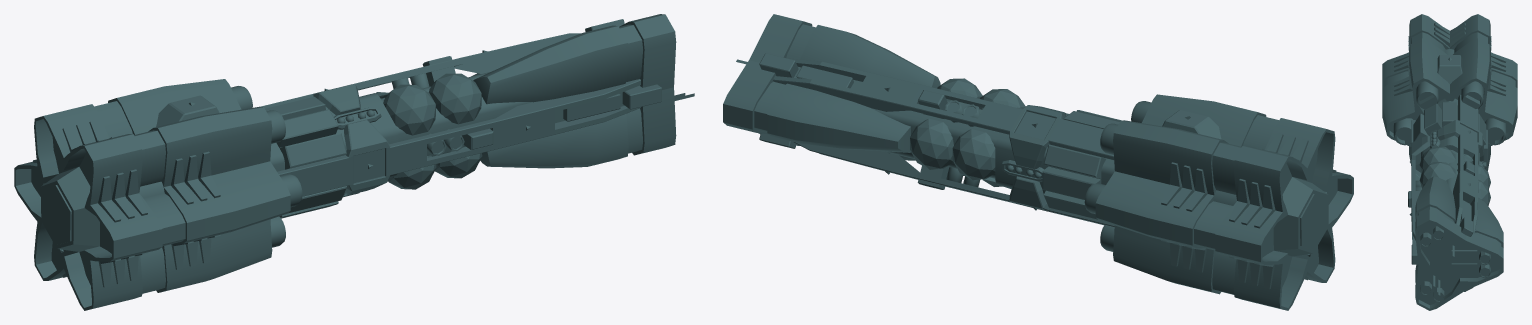
3 renders of one model, left to right at view 1: azimuth 30°, elevation 25°; view 2: azimuth 150°, elevation 25°; view 3: azimuth 270°, elevation 25°, orthographic. The views are drawn at different scales.
Visible parts, largest first — view 1: Engine pod, Front section, Frame; view 2: Engine pod, Frame, Front section; view 3: Engine pod, Front section, Frame.
Boxes of the visible parts, x1=… form: Engine pod: x1=14, y1=72, x2=532, y2=310; Front section: x1=471, y1=14, x2=694, y2=168; Frame: x1=261, y1=19, x2=661, y2=197; Engine pod: x1=872, y1=78, x2=1353, y2=310; Frame: x1=759, y1=53, x2=1114, y2=226; Front section: x1=723, y1=14, x2=940, y2=160; Engine pod: x1=1382, y1=14, x2=1517, y2=205; Front section: x1=1415, y1=176, x2=1503, y2=310; Frame: x1=1408, y1=94, x2=1484, y2=291.
Bounding box in the file's own units: 115 × 28.76 × 31.42.
